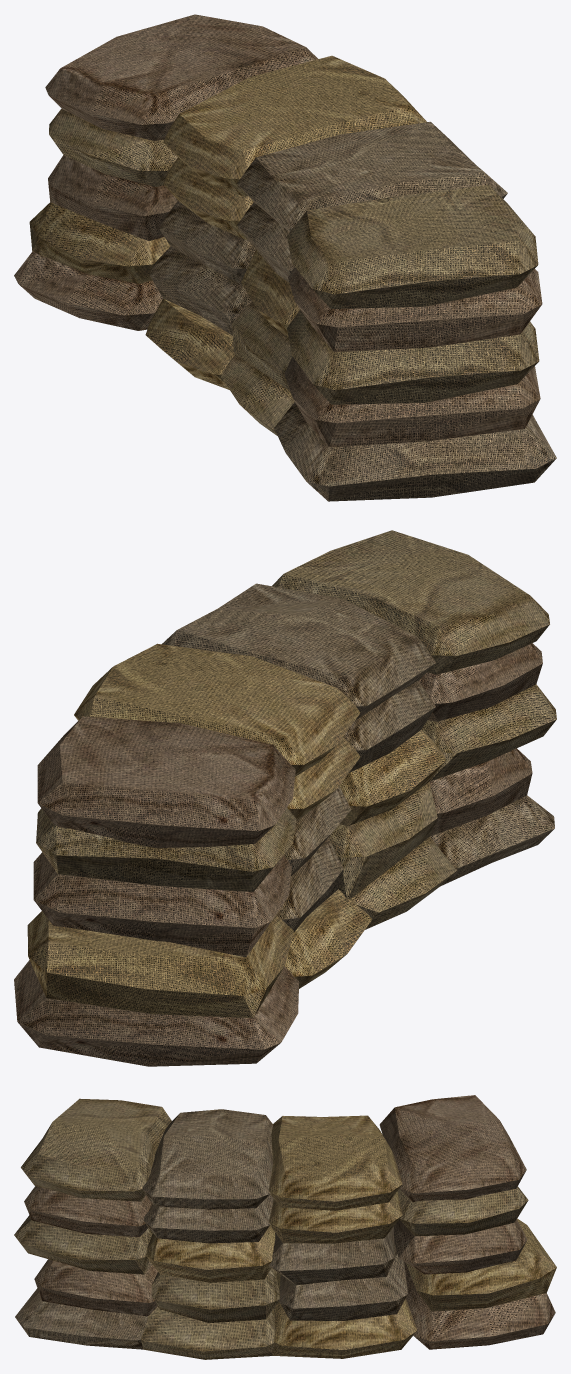
File: sacks_4.FBX
3 renders of one model, top to bottom at view 1: azimuth 30°, elevation 25°; view 2: azimuth 150°, elevation 25°; view 3: azimuth 270°, elevation 25°, orthographic. The views are drawn at different scales.
Visible parts, largest first — view 1: sacks_4; view 2: sacks_4; view 3: sacks_4.
Part boxes in pixels (x1,y1,x2,y2): sacks_4: [14, 14, 556, 501]; sacks_4: [14, 530, 556, 1066]; sacks_4: [14, 1095, 556, 1359].
Size of the model in its own units: 391 by 331 by 839.
